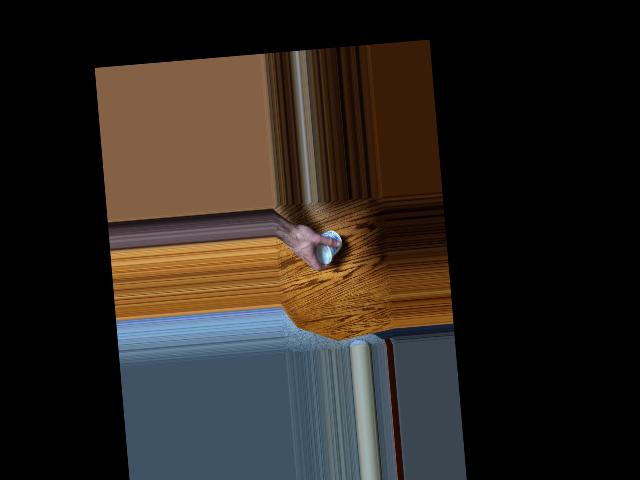cotage: (312, 232, 345, 272)
